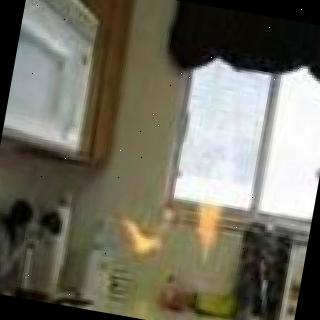fire: (110, 180, 242, 282)
